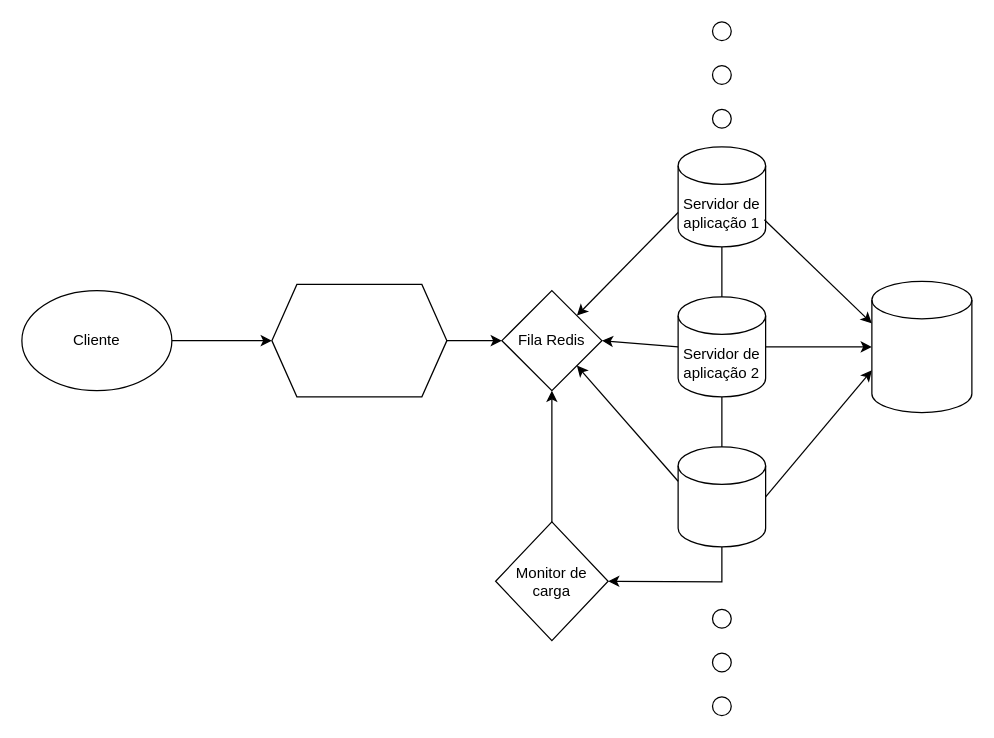
Some shapes in this 994 by 738 pixel diagram are drawn without their labels. Here are the shapes that lost their labels. From the top down, the centre of each, then its label:
At [359,340]: "Proxy".
At [921,346]: "Servidor de banco de dados distribuído".
At [721,496]: "Servidor de aplicação 3".
